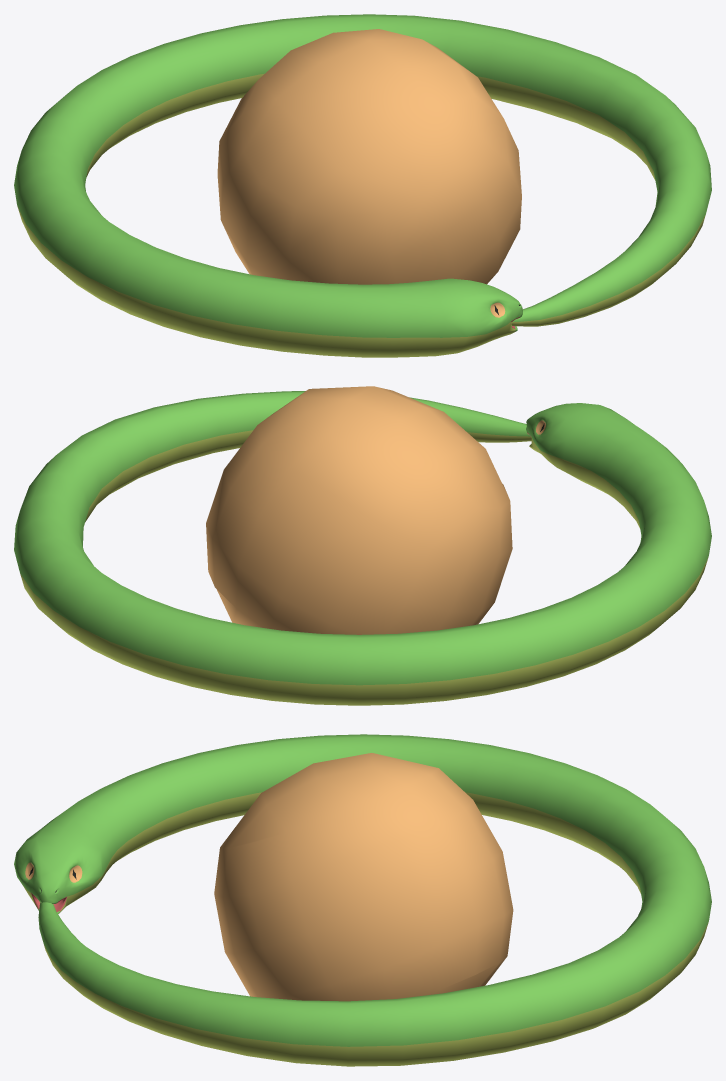
The model's file is snake-DpBv0pOj.glb.
3 views of the same model, one above another, from view 1: azimuth 30°, elevation 25°; view 2: azimuth 150°, elevation 25°; view 3: azimuth 270°, elevation 25° (orthographic). The views are drawn at different scales.
Visible parts, largest first — view 1: Torus, ball; view 2: Torus, ball; view 3: Torus, ball.
Boxes of the visible parts, <box> form: Torus: <box>14,14,711,357</box>; ball: <box>217,29,521,284</box>; Torus: <box>14,391,711,705</box>; ball: <box>206,386,512,634</box>; Torus: <box>14,734,711,1066</box>; ball: <box>214,753,513,1001</box>.
Size of the model in its own units: 0.6518 by 0.2868 by 0.6606.
